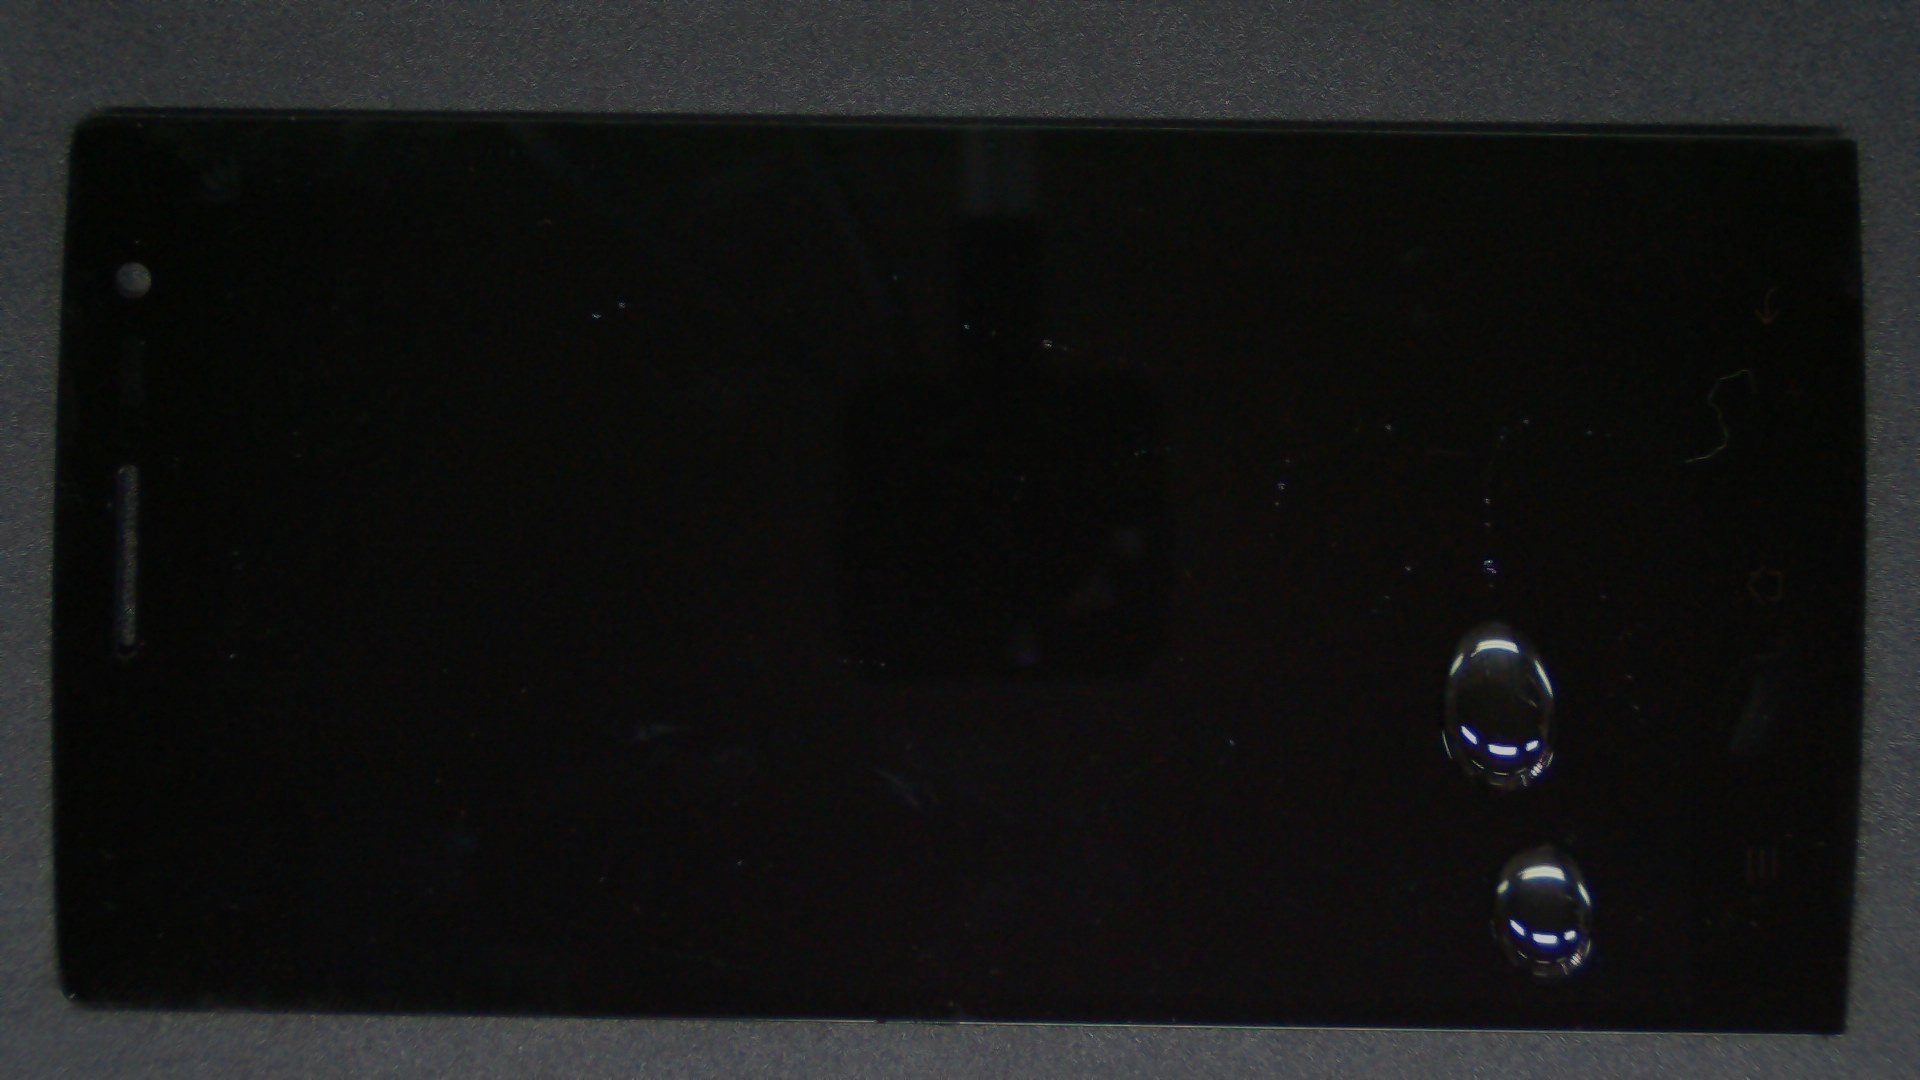oil: (777, 422, 1920, 1080), (745, 310, 1920, 932)
